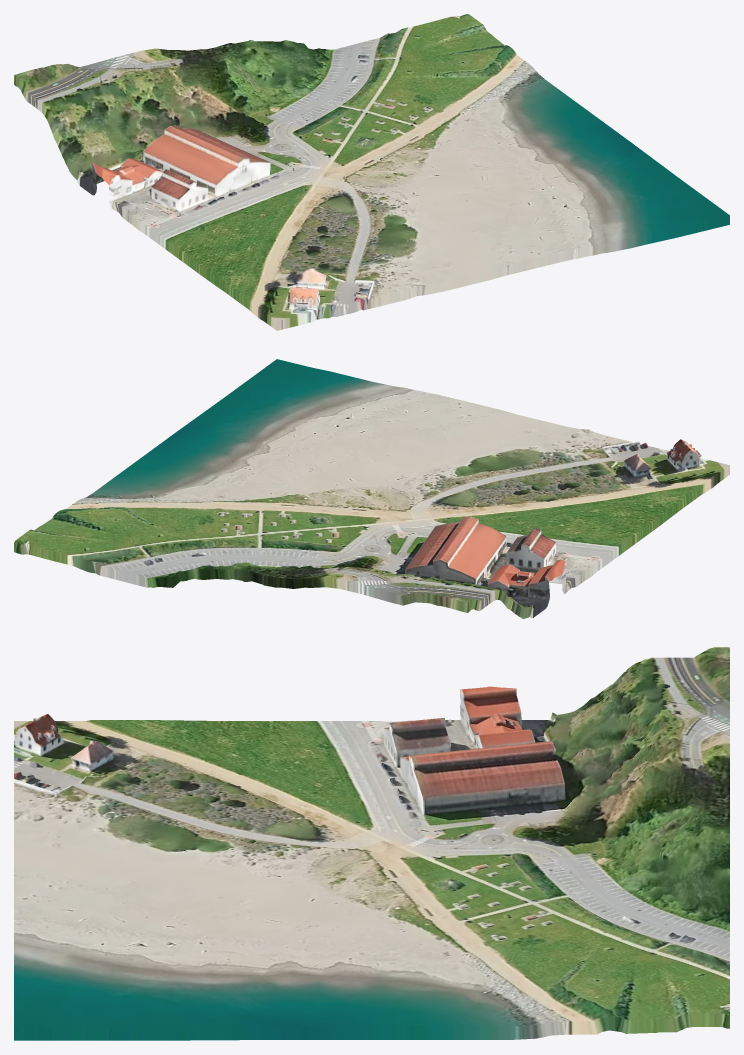
File: z17-20946-50647-h0-yup-uvflip-v3-world.glb
3 views of the same model, one above another, from view 1: azimuth 30°, elevation 25°; view 2: azimuth 150°, elevation 25°; view 3: azimuth 270°, elevation 25° (orthographic). The views are drawn at different scales.
Size of the model in its own units: 241 by 34.88 by 243.
Materials: 1 (1 with a texture image).
